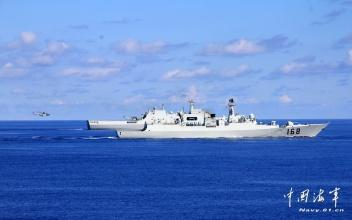airplane: (25, 110, 66, 122)
warship: (105, 106, 329, 143), (70, 100, 225, 128)
